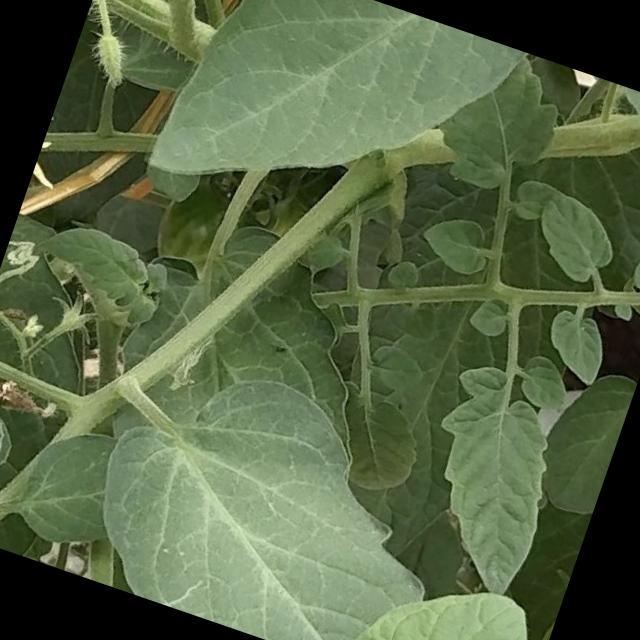Tomato healthy leaf: (65, 334, 474, 640), (141, 0, 532, 276), (391, 354, 588, 605), (332, 546, 541, 640), (520, 184, 629, 294), (534, 302, 620, 392)
Tomato target spot leaf: (0, 376, 33, 519), (0, 229, 47, 308)
